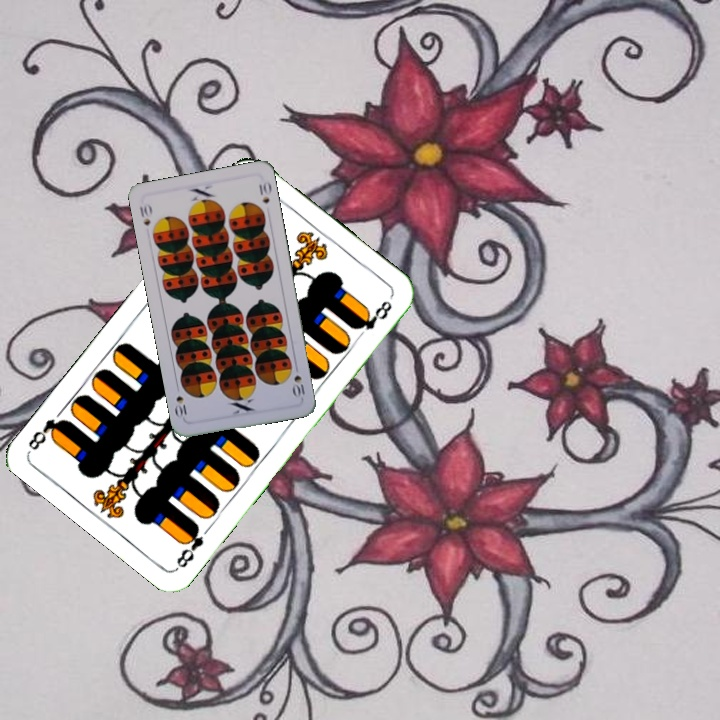E8: (172, 520, 206, 571)
S10: (289, 371, 307, 401), (135, 200, 154, 228)
